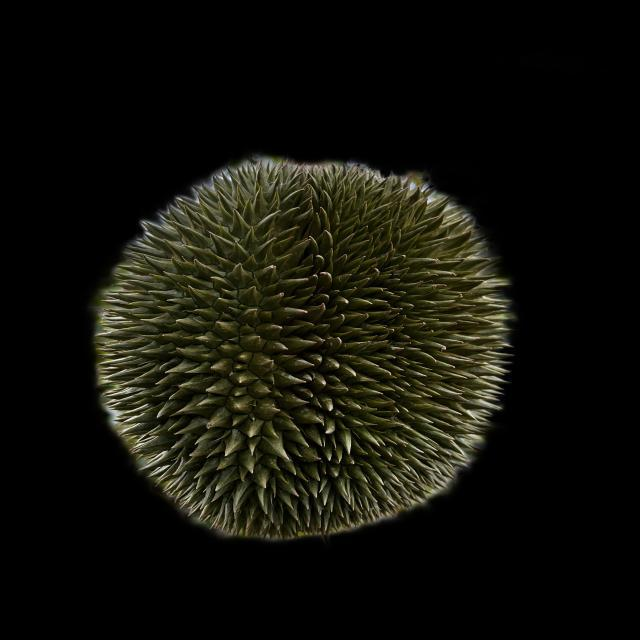immature: (91, 163, 519, 541)
